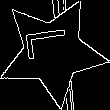L_E: (26, 33, 79, 70)
